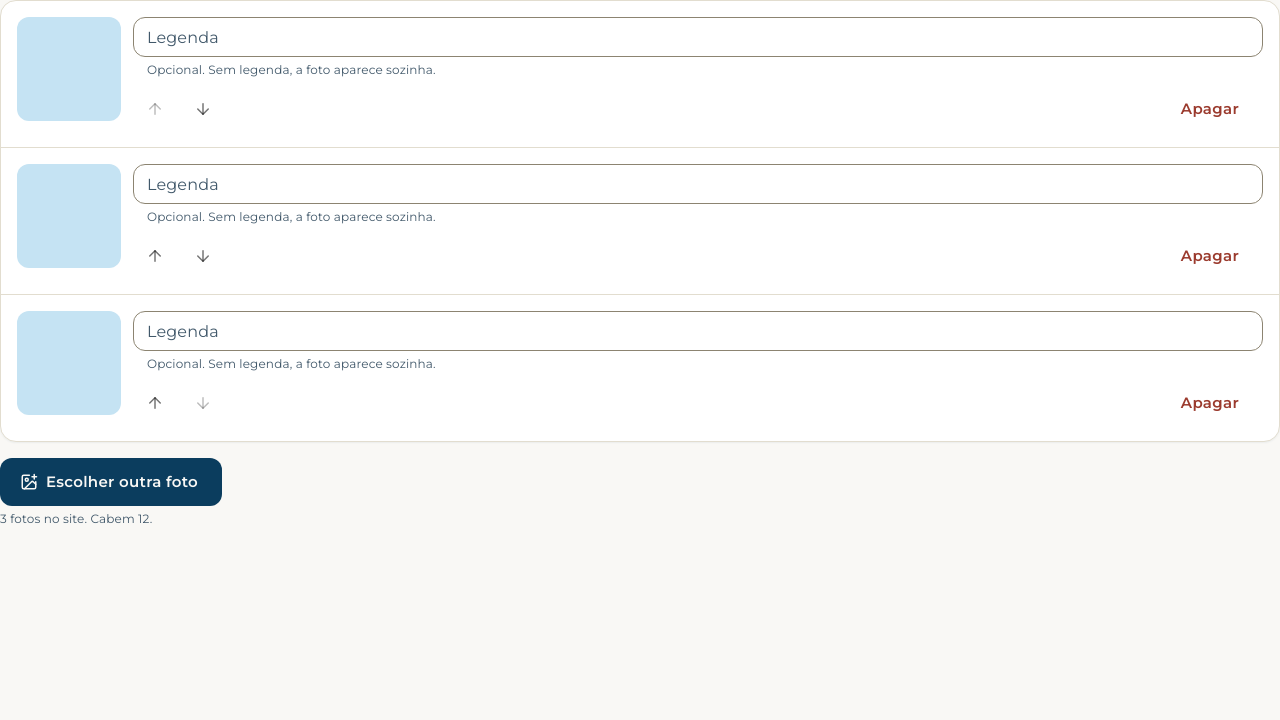
Test case: apagar diz o que faz antes de fazer › **a caixa nomeia a consequência, e não pergunta se a pessoa tem certeza**
Click the 1st button "Apagar".
click(1210, 109)  # box x1=1157 y1=87 x2=1263 y2=131
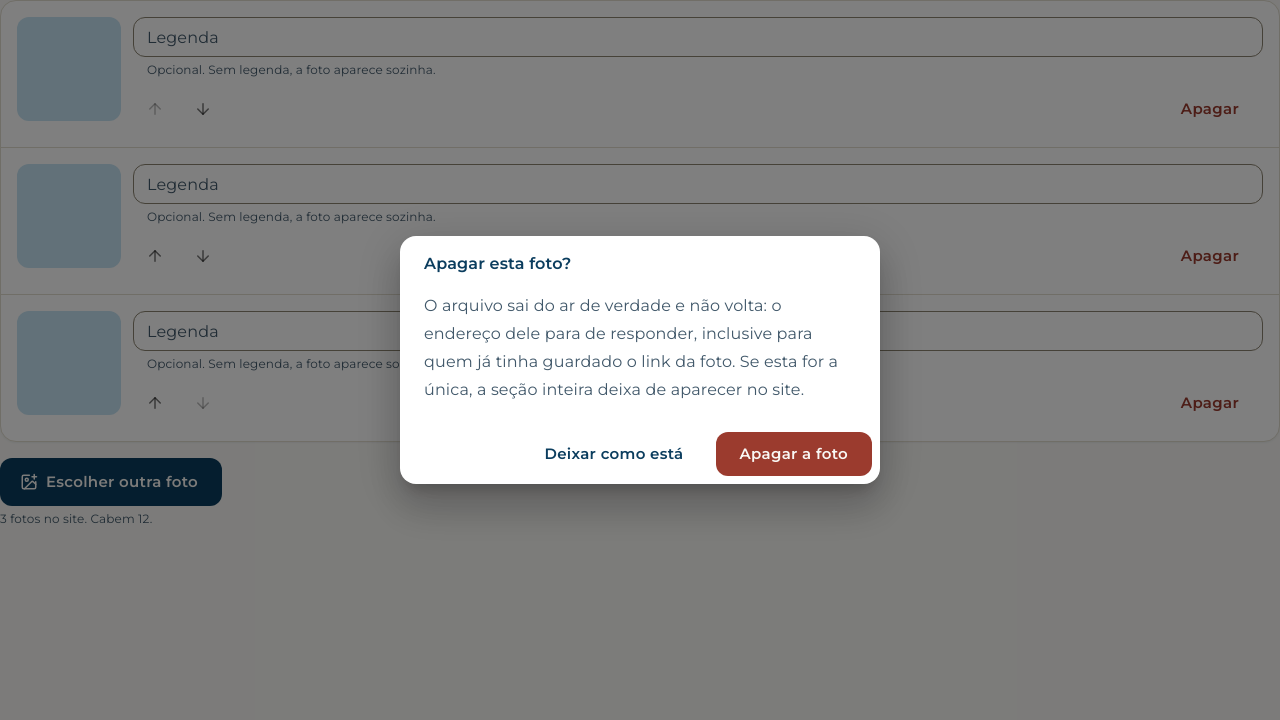
Expected: the text "inclusive para quem já tinha guardado o link" is shown, x1=424 y1=296 x2=838 y2=399
